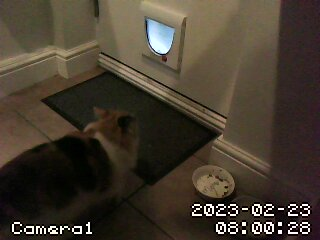clara: (5, 105, 146, 227)
